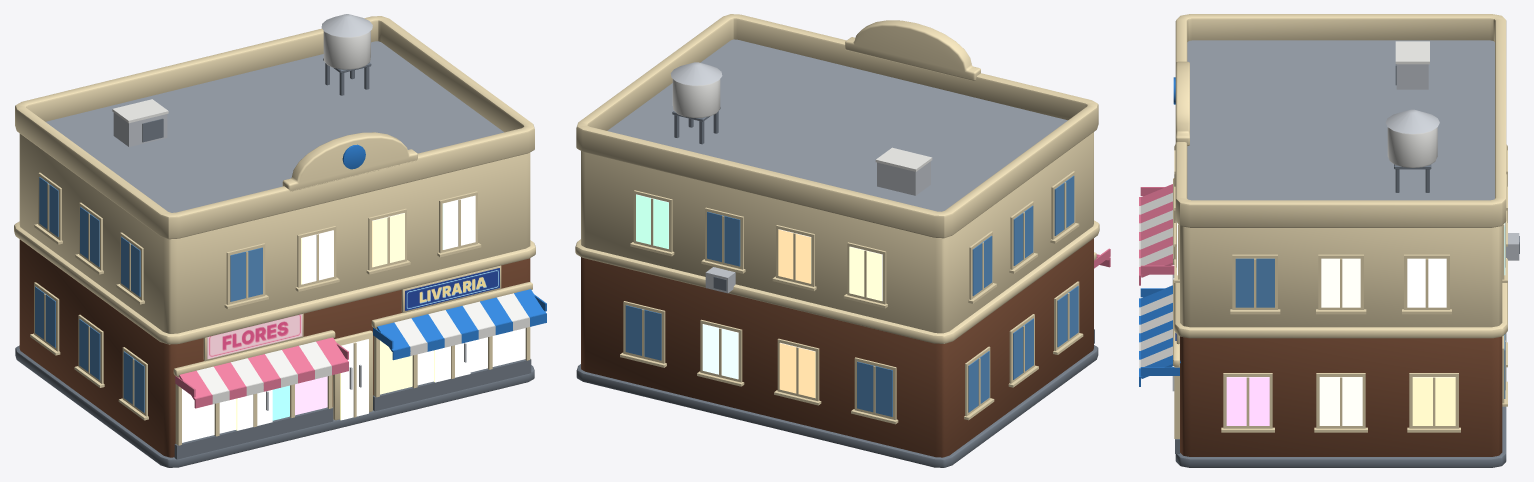
Rendered from lojas_2andares_flores.glb.
3 views of the same model, side by side, from view 1: azimuth 30°, elevation 25°; view 2: azimuth 150°, elevation 25°; view 3: azimuth 270°, elevation 25° (orthographic). The views are drawn at different scales.
Parts seen in each view (by area): view 1: lojas_2andares_flores; view 2: lojas_2andares_flores; view 3: lojas_2andares_flores.
Boxes of the visible parts, left/top/right/bottom form: lojas_2andares_flores: left=14, top=14, right=546, bottom=467; lojas_2andares_flores: left=575, top=14, right=1110, bottom=467; lojas_2andares_flores: left=1139, top=14, right=1519, bottom=467.
Bounding box in the file's own units: 12.72 × 9.75 × 10.64.
9 materials, 2 textured.
